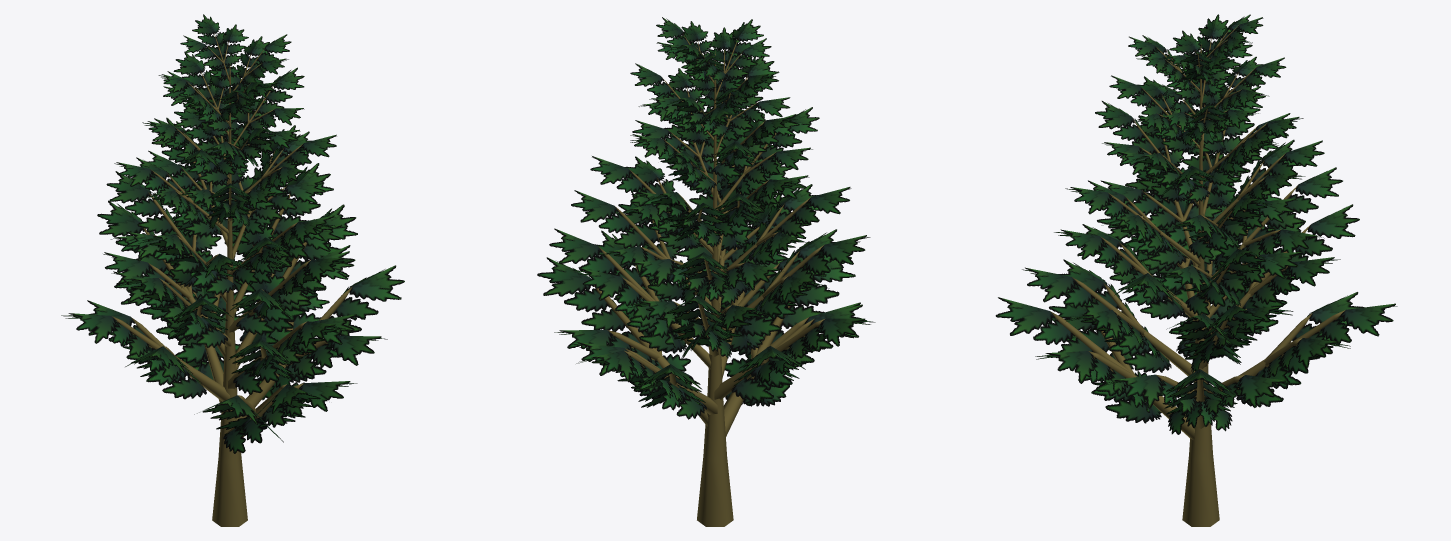
Rendered from coniferous.glb.
3 views of the same model, side by side, from view 1: azimuth 30°, elevation 25°; view 2: azimuth 150°, elevation 25°; view 3: azimuth 270°, elevation 25° (orthographic). The views are drawn at different scales.
Parts seen in each view (by area): view 1: leaf, bark; view 2: leaf, bark; view 3: leaf, bark.
Boxes of the visible parts, box(x1,y1,x2,y2) form: leaf: box(61, 14, 404, 453); bark: box(112, 33, 352, 526); leaf: box(537, 17, 875, 419); bark: box(594, 34, 824, 526); leaf: box(995, 14, 1397, 434); bark: box(1050, 25, 1345, 526).
Size of the model in its own units: 3.14 by 3.87 by 3.33.
Materials: 2 (1 with a texture image).
